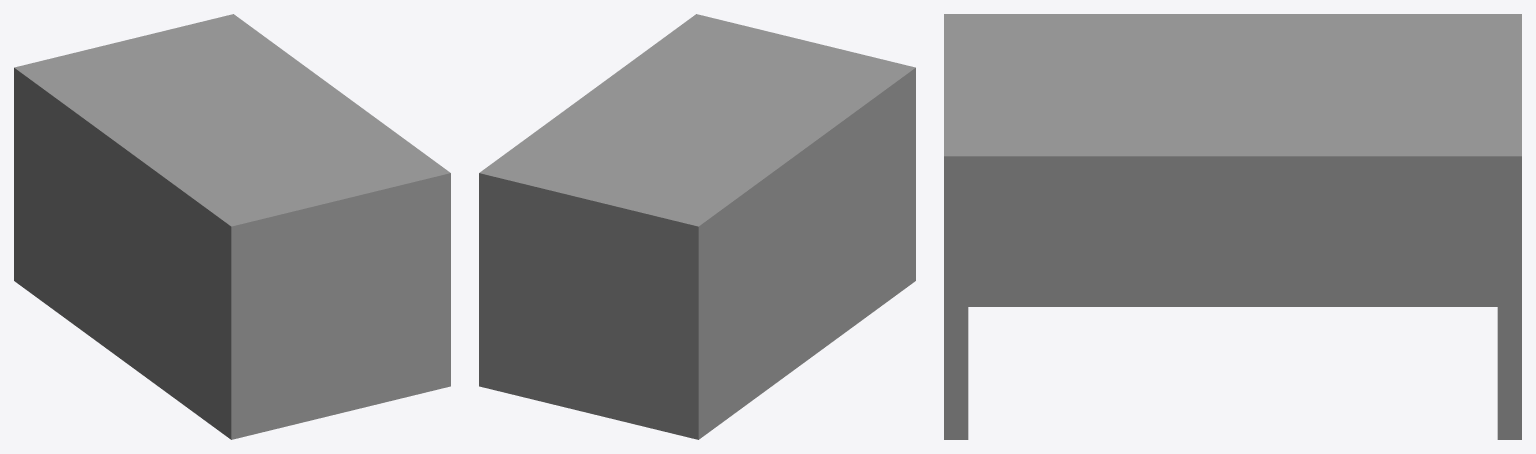
The model's file is Desk.fbx.
3 renders of one model, left to right at view 1: azimuth 30°, elevation 25°; view 2: azimuth 150°, elevation 25°; view 3: azimuth 270°, elevation 25°, orthographic. The views are drawn at different scales.
Visible parts, largest first — view 1: Desk; view 2: Desk; view 3: Desk.
Part boxes in pixels (x1,y1,x2,y2): Desk: [14, 14, 450, 439]; Desk: [479, 14, 915, 439]; Desk: [944, 14, 1521, 439].
Bounding box in the file's own units: 70 × 65 × 120.
Materials: 1 (1 with a texture image).
